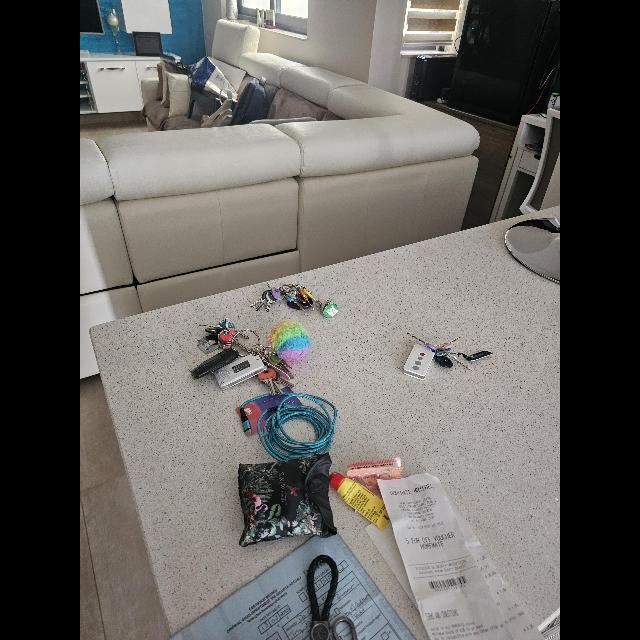Keys: (196, 322, 300, 392), (411, 332, 492, 372), (248, 282, 338, 314), (197, 320, 237, 354)
